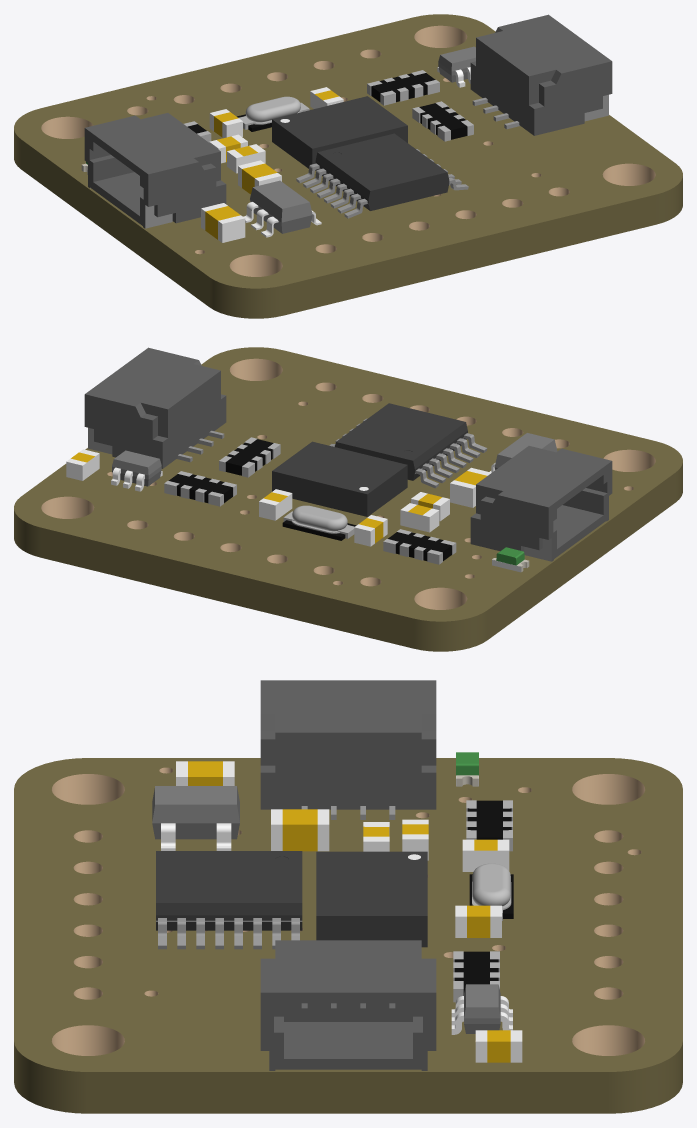
File: BNO085.dae
3 views of the same model, one above another, from view 1: azimuth 30°, elevation 25°; view 2: azimuth 150°, elevation 25°; view 3: azimuth 270°, elevation 25° (orthographic). The views are drawn at different scales.
Visible parts, largest first — view 1: 685e4adcca527706fdbadbb7 (×17); view 2: 685e4adcca527706fdbadbb7 (×18); view 3: 685e4adcca527706fdbadbb7 (×18).
Part boxes in pixels (x1=…): 685e4adcca527706fdbadbb7 (×17): x1=14, y1=14, x2=682, y2=318; 685e4adcca527706fdbadbb7 (×18): x1=14, y1=347, x2=682, y2=651; 685e4adcca527706fdbadbb7 (×18): x1=14, y1=680, x2=682, y2=1113.
Size of the model in its own units: 0.0254 by 0.0229 by 0.00453.
